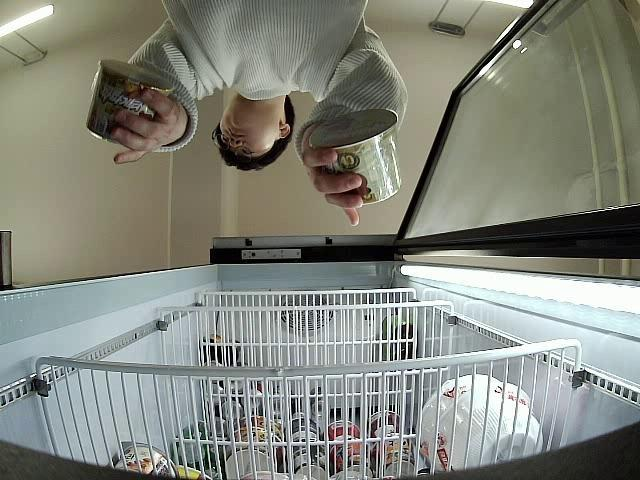04_chapagetti_S: (309, 110, 408, 206), (86, 58, 175, 147)
